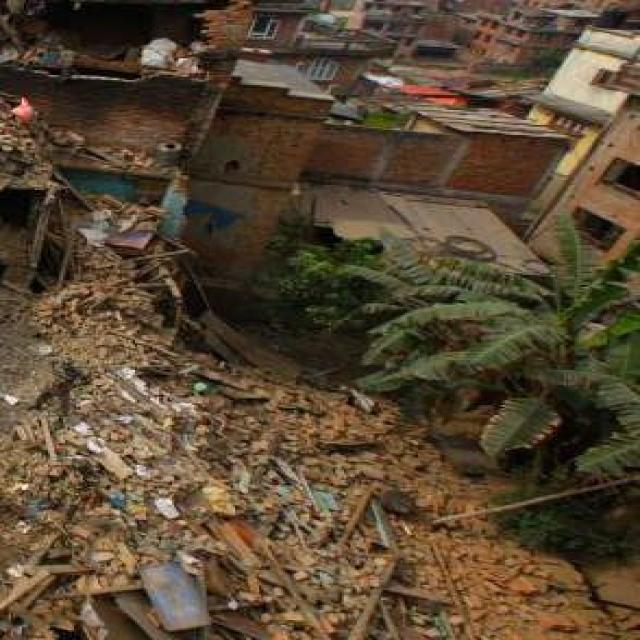collapsed_building: (0, 2, 216, 348)
